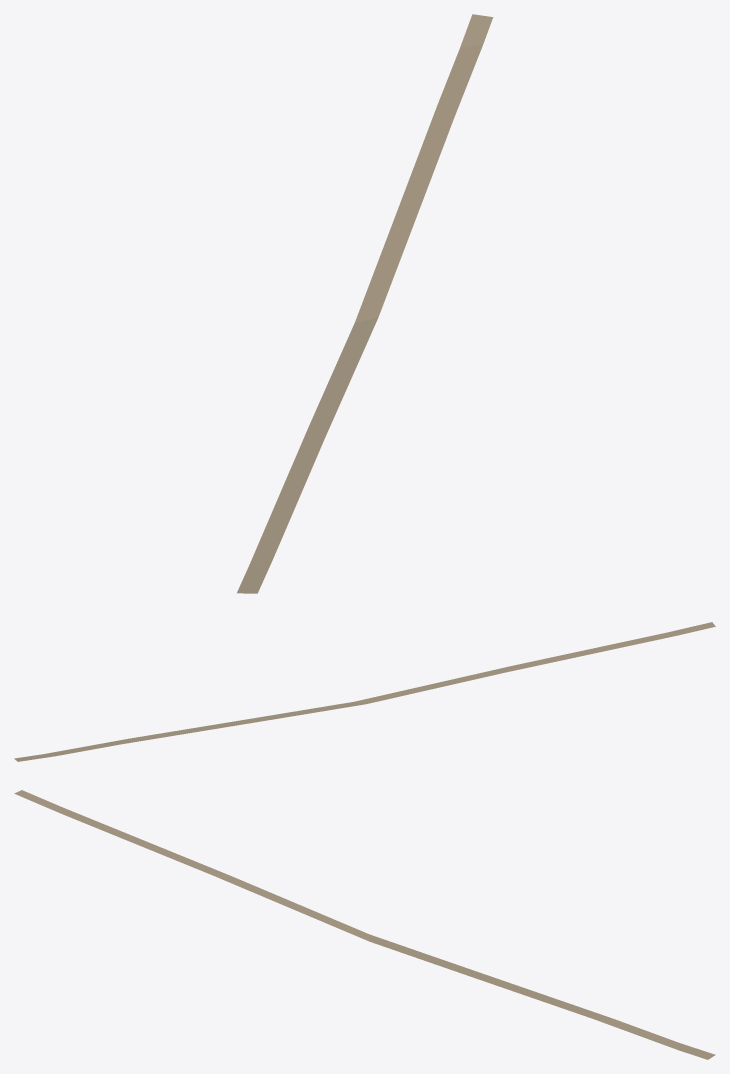
File: farm_-2_15_track.glb
3 views of the same model, one above another, from view 1: azimuth 30°, elevation 25°; view 2: azimuth 150°, elevation 25°; view 3: azimuth 270°, elevation 25° (orthographic). The views are drawn at different scales.
Visible parts, largest first — view 1: geometry_0; view 2: geometry_0; view 3: geometry_0.
Part boxes in pixels (<box>): geometry_0: <box>237,14,493,593</box>; geometry_0: <box>14,622,715,761</box>; geometry_0: <box>14,790,715,1059</box>.
Size of the model in its own units: 148 by 8.2 by 181.
